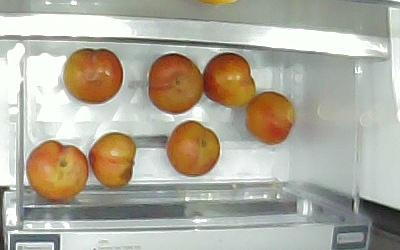prune: (26, 140, 89, 201), (148, 52, 203, 114), (63, 49, 123, 104), (166, 121, 220, 177), (203, 52, 255, 107), (89, 132, 137, 187), (245, 91, 294, 144)
